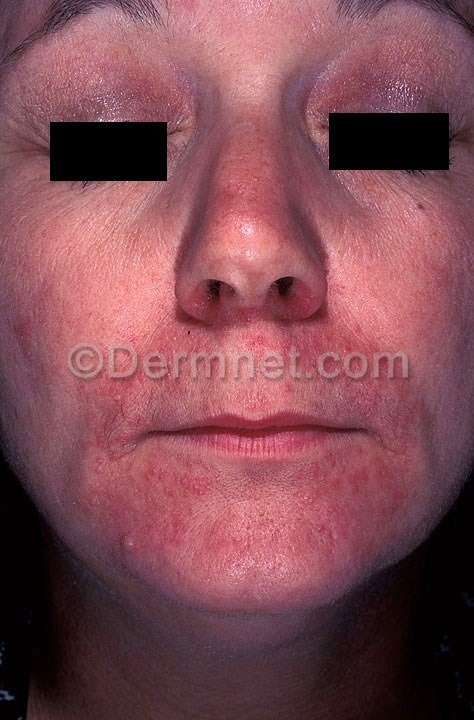Acne: (21, 168, 444, 587)
